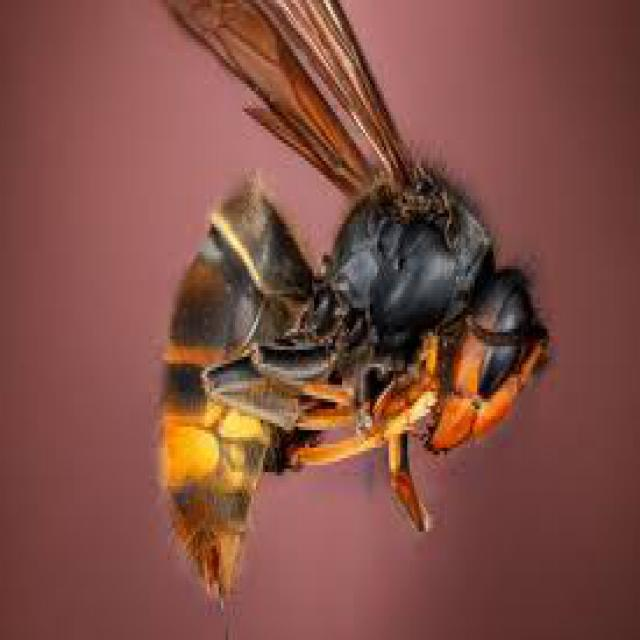Vespa Velutina: (124, 0, 569, 620)
